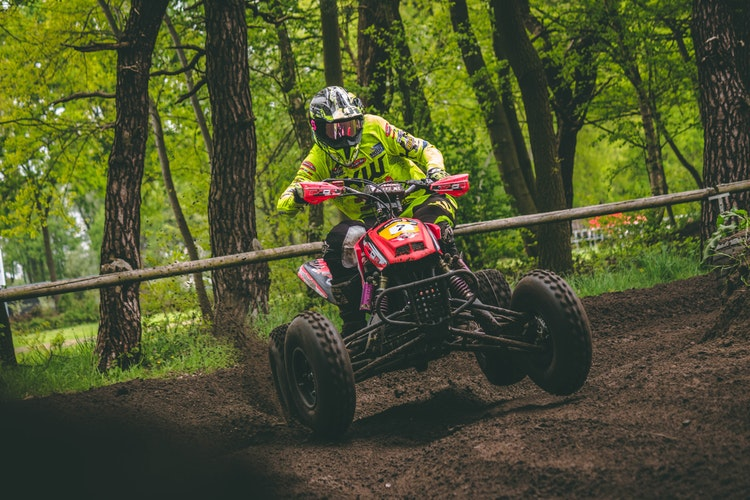helmet: (307, 83, 368, 165)
